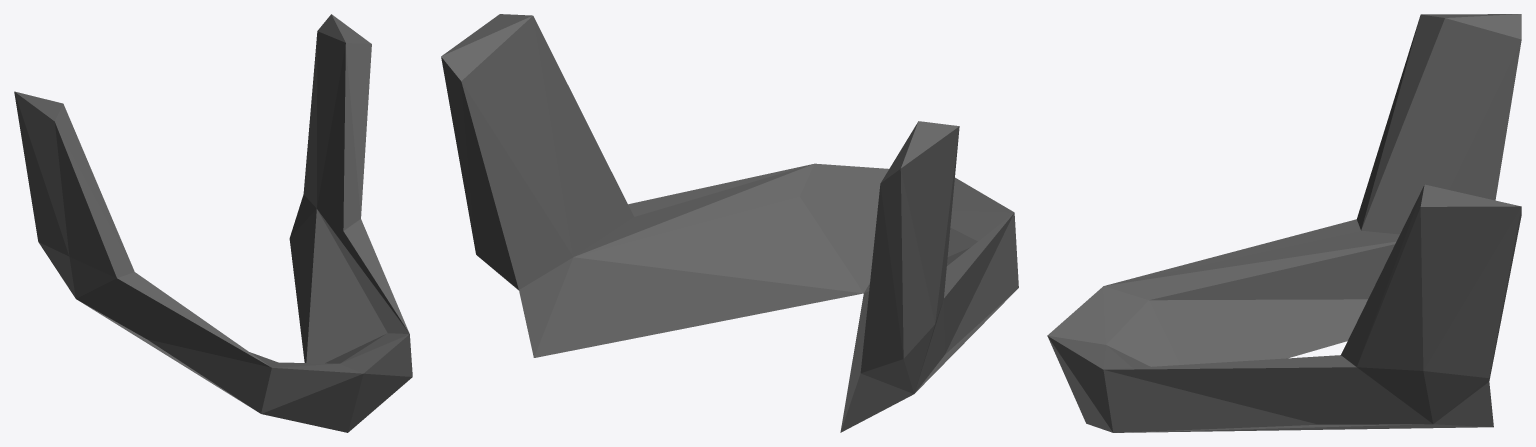
Rendered from Enemy_Skull_1.fbx.
3 views of the same model, side by side, from view 1: azimuth 30°, elevation 25°; view 2: azimuth 150°, elevation 25°; view 3: azimuth 270°, elevation 25° (orthographic). The views are drawn at different scales.
Visible parts, largest first — view 1: Enemy_Skull_1; view 2: Enemy_Skull_1; view 3: Enemy_Skull_1.
Part boxes in pixels (box(x1,y1,x2,y2)): Enemy_Skull_1: box(14, 14, 412, 432); Enemy_Skull_1: box(441, 14, 1018, 432); Enemy_Skull_1: box(1047, 14, 1521, 432).
Size of the model in its own units: 121 by 93.76 by 126.
